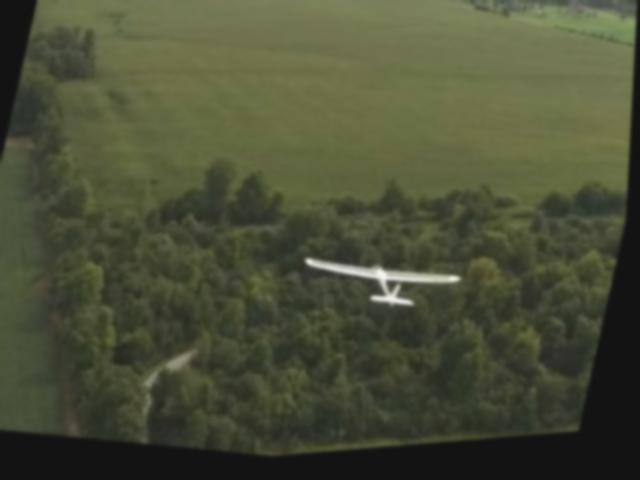uav: (291, 235, 474, 338)
